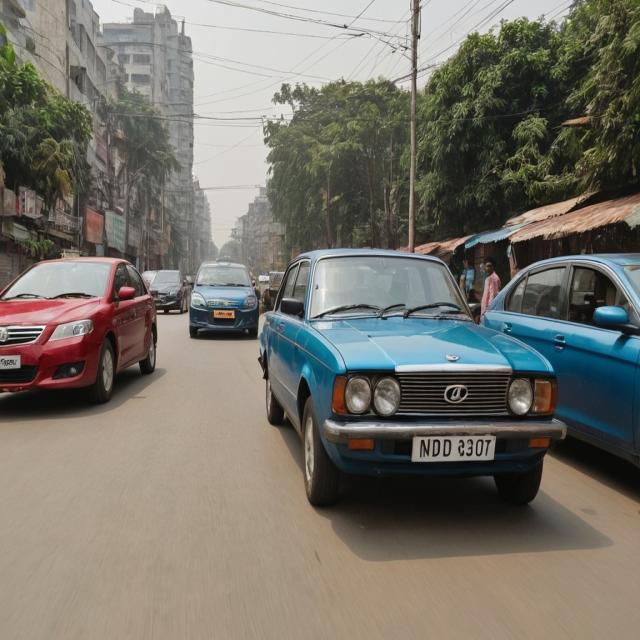blue: (269, 244, 559, 522), (478, 239, 640, 483), (186, 260, 258, 342)
red: (0, 241, 163, 430)
